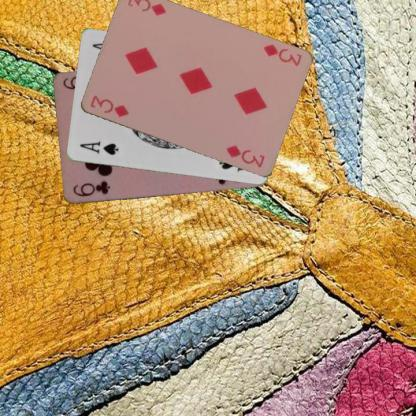3d: (87, 92, 130, 119), (260, 41, 303, 68)
6c: (70, 179, 111, 198)
As: (76, 139, 119, 157)
